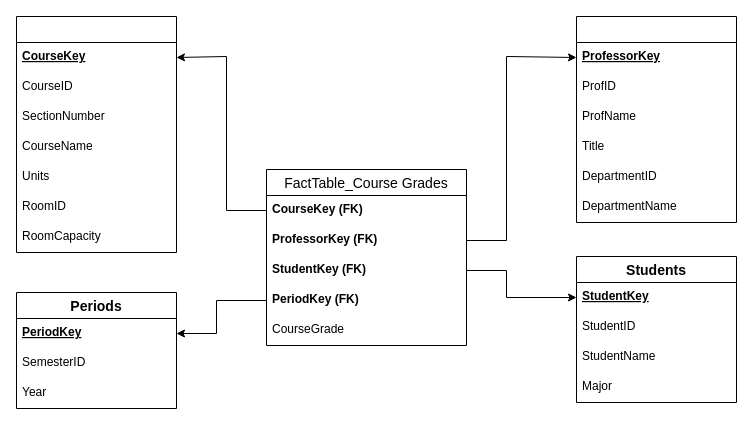
Some shapes in this 753 by 425 pixel diagram are drawn without their labels. The shapes that lost their labels are listed below. From the top down, each one's box as (x1, y1, x2, y2) in pixels, then its label:
(16, 16, 176, 252): Courses
(576, 16, 736, 222): Professors
